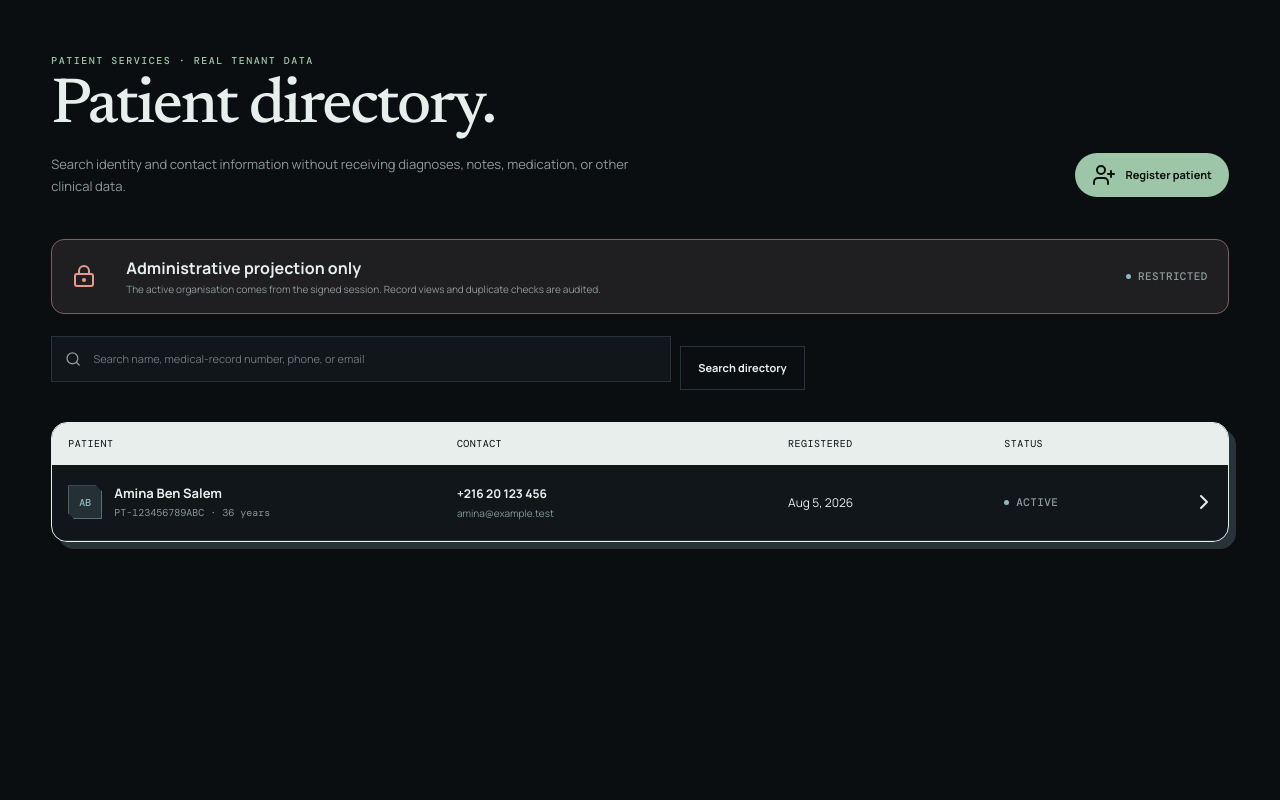
Test: Administrative patient registry page › renders and opens only the administrative patient projection
The width and height of the screenshot is (1280, 800).
Expected: the text "PT-123456789ABC · 36 years" is shown, [114,506,270,521]
Click the button "Amina Ben Salem" at {"x": 85, "y": 502}, box [52,465,1228,541]
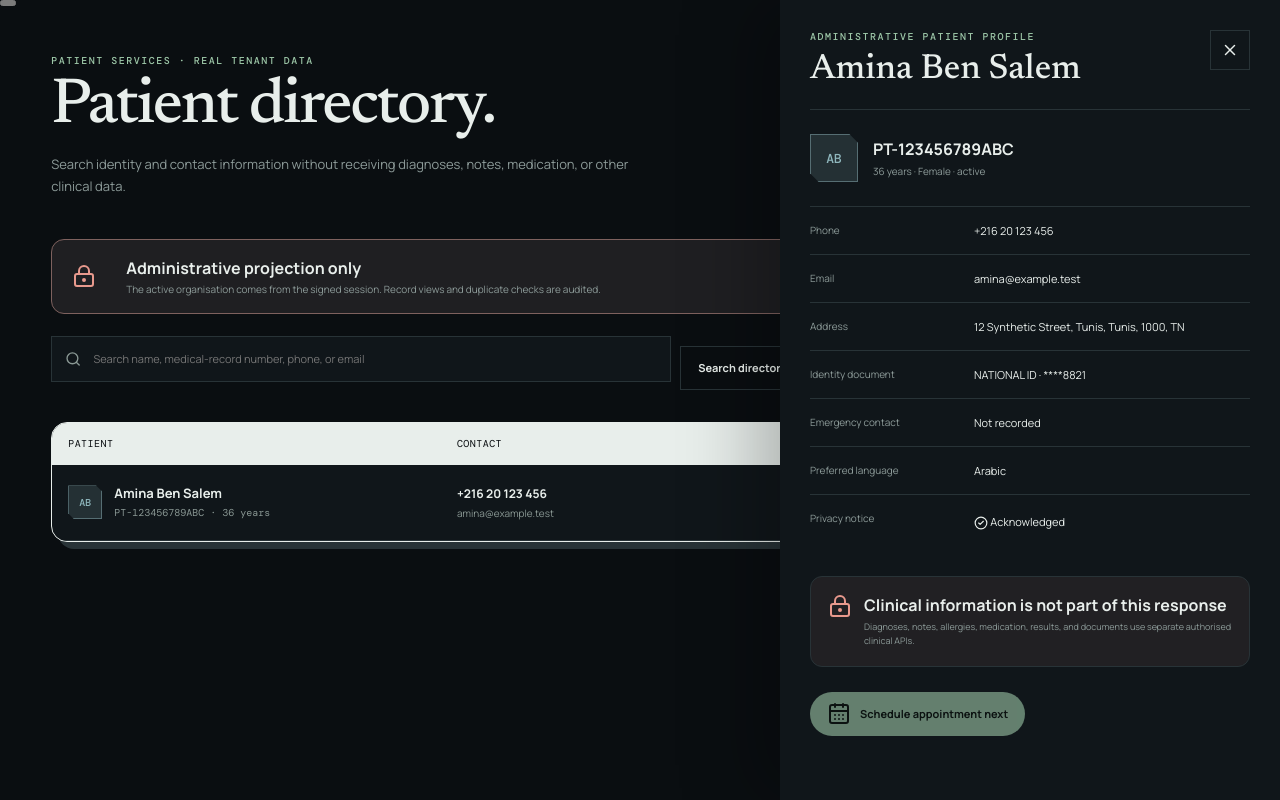
Result: the heading "Amina Ben Salem" is shown at [810,52,1081,87]
Result: the text "****8821" is shown at [974,367,1086,382]
Result: the text "Clinical information is not part of this response" is shown at [864,594,1232,616]
